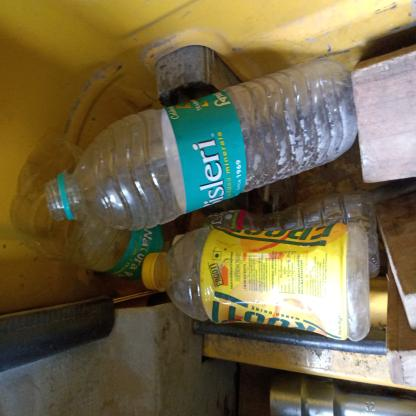bottle: (138, 58, 273, 416), (54, 186, 148, 416), (103, 22, 164, 247)
